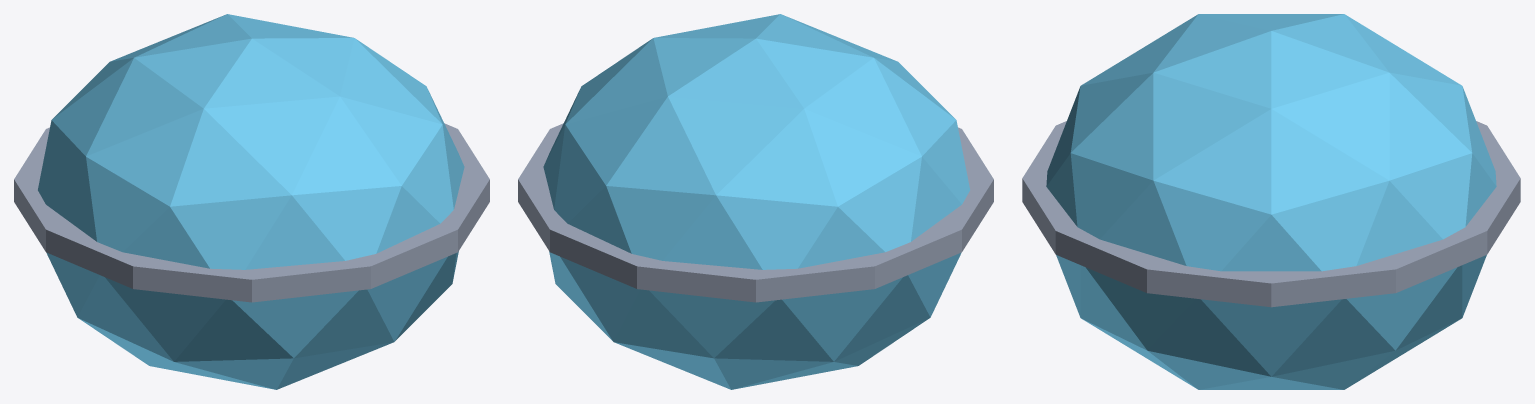
File: lowpoly-moon_base_dome.glb
The picture shows the model from 3 angles, left to right: view 1: azimuth 30°, elevation 25°; view 2: azimuth 150°, elevation 25°; view 3: azimuth 270°, elevation 25°; orthographic projection. The views are drawn at different scales.
Visible parts, largest first — view 1: moon_base_dome; view 2: moon_base_dome; view 3: moon_base_dome.
Part boxes in pixels (x1,y1,x2,y2): moon_base_dome: [14, 14, 489, 389]; moon_base_dome: [518, 14, 993, 389]; moon_base_dome: [1022, 14, 1520, 389].
Bounding box in the file's own units: 3.8 × 2.88 × 3.8.
